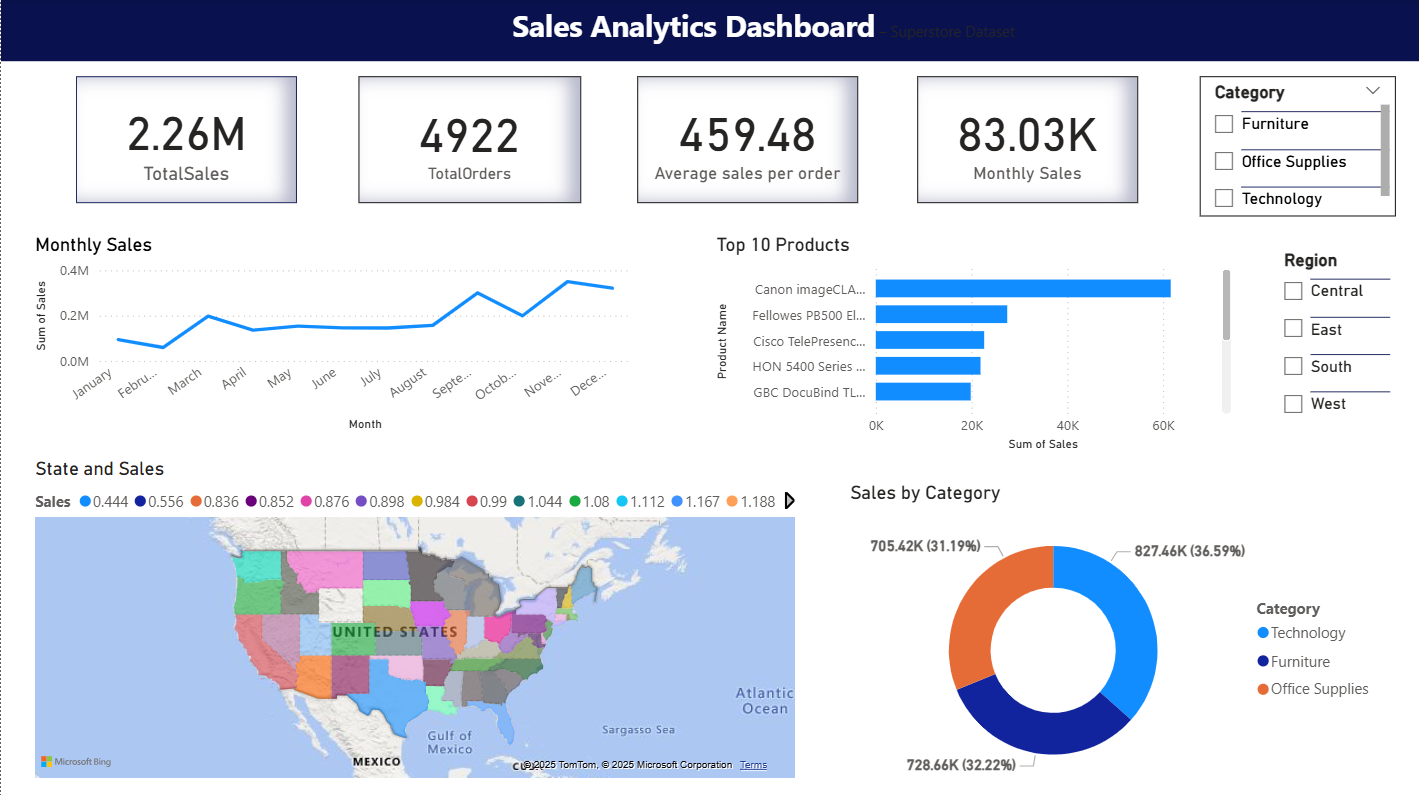

This screenshot's page, from the dashboard's own definition file:
{"tool":"powerbi","page":{"name":"Page 1","canvas":[1280,720],"ordinal":0},"visuals":[{"type":"card","fields":{"Values":["SalesData.TotalSales"]},"box":[68.1,69.3,199.4,114.6],"z":0},{"type":"card","fields":{"Values":["SalesData.Monthly Sales"]},"box":[826.4,69.3,199.4,114.6],"z":1000},{"type":"card","fields":{"Values":["SalesData.Average sales per order"]},"box":[573.2,69.3,199.4,114.6],"z":2000},{"type":"card","fields":{"Values":["SalesData.TotalOrders"]},"box":[322.4,69.3,200.6,114.6],"z":3000},{"type":"lineChart","title":"Monthly Sales","fields":{"Y":["Sum(SalesData.Sales)"],"Category":["SalesData.Order Date.Variation.Date Hierarchy.Month"]},"box":[25.9,211.1,546.8,182.7],"z":4000},{"type":"filledMap","fields":{"Category":["SalesData.State"],"Series":["SalesData.Sales"]},"box":[25.9,412.3,694.9,293.8],"z":5000},{"type":"clusteredBarChart","title":"Top 10 Products","fields":{"Category":["SalesData.Product Name"],"Y":["Sum(SalesData.Sales)"]},"box":[640.6,211.1,474,201.2],"z":6000},{"type":"donutChart","title":"Sales by Category","fields":{"Category":["SalesData.Category"],"Y":["Sum(SalesData.Sales)"]},"box":[760.3,434.5,486.3,286],"z":7000},{"type":"slicer","fields":{"Values":["SalesData.Region"]},"box":[1144.1,220.9,113.5,181.5],"z":8000},{"type":"slicer","fields":{"Values":["SalesData.Category"]},"box":[1080.8,69.3,176.7,126.6],"z":9000},{"type":"actionButton","box":[0,0,200,50],"z":9500},{"type":"textbox","box":[0,0,1280.2,54.9],"z":10000}]}

Visuals, with their boxes in screenshot pixels (x1, y1, x2, y2), scaled from the page's 1280x720 canvas onto the 1419x796 screenshot:
card - SalesData.TotalSales: x1=75 y1=77 x2=297 y2=203
card - SalesData.Monthly Sales: x1=916 y1=77 x2=1137 y2=203
card - SalesData.Average sales per order: x1=635 y1=77 x2=856 y2=203
card - SalesData.TotalOrders: x1=357 y1=77 x2=580 y2=203
"Monthly Sales" lineChart: x1=29 y1=233 x2=635 y2=435
filledMap - SalesData.State x SalesData.Sales: x1=29 y1=456 x2=799 y2=781
"Top 10 Products" clusteredBarChart: x1=710 y1=233 x2=1236 y2=456
"Sales by Category" donutChart: x1=843 y1=480 x2=1382 y2=795
slicer - SalesData.Region: x1=1268 y1=244 x2=1394 y2=445
slicer - SalesData.Category: x1=1198 y1=77 x2=1394 y2=217
actionButton: x1=0 y1=0 x2=222 y2=55
textbox: x1=0 y1=0 x2=1418 y2=61
